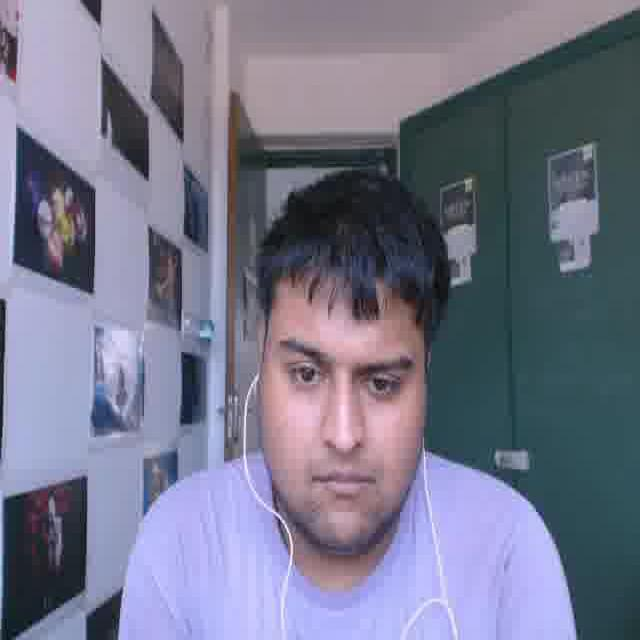Boredom: (262, 274, 421, 542)
